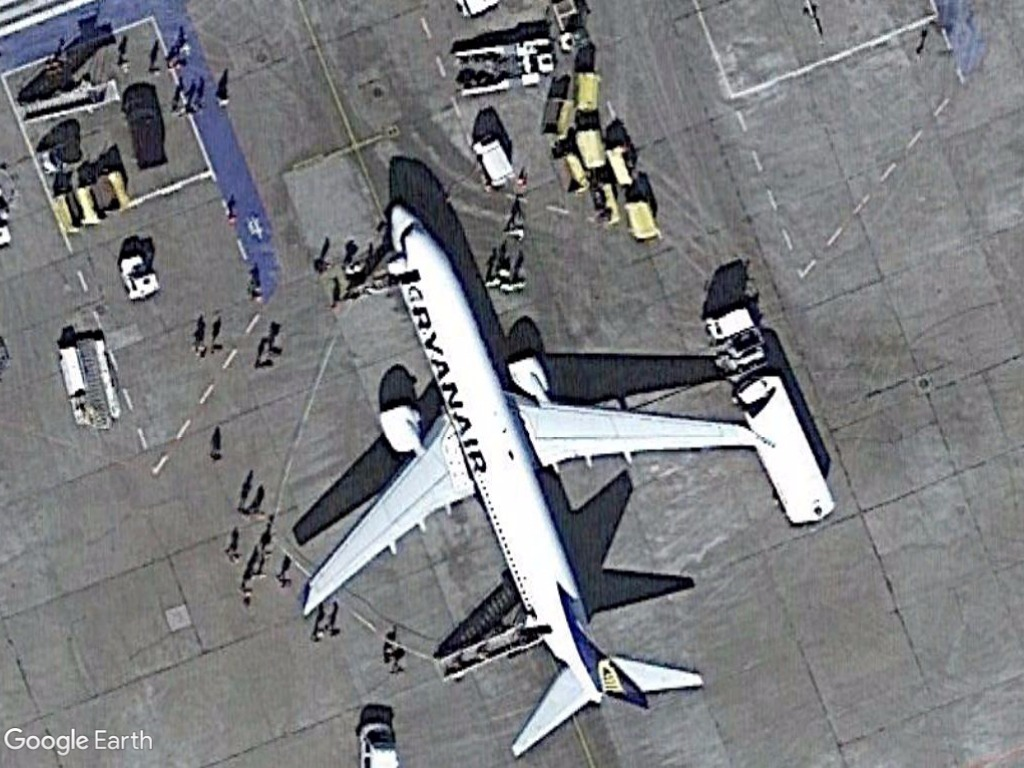airliner: (297, 194, 775, 760)
pushbacktruck: (54, 327, 130, 439), (453, 35, 556, 98)
